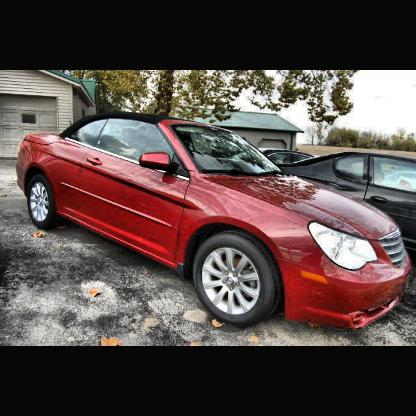Chrysler Sebring Convertible 2010: (18, 112, 413, 331)
